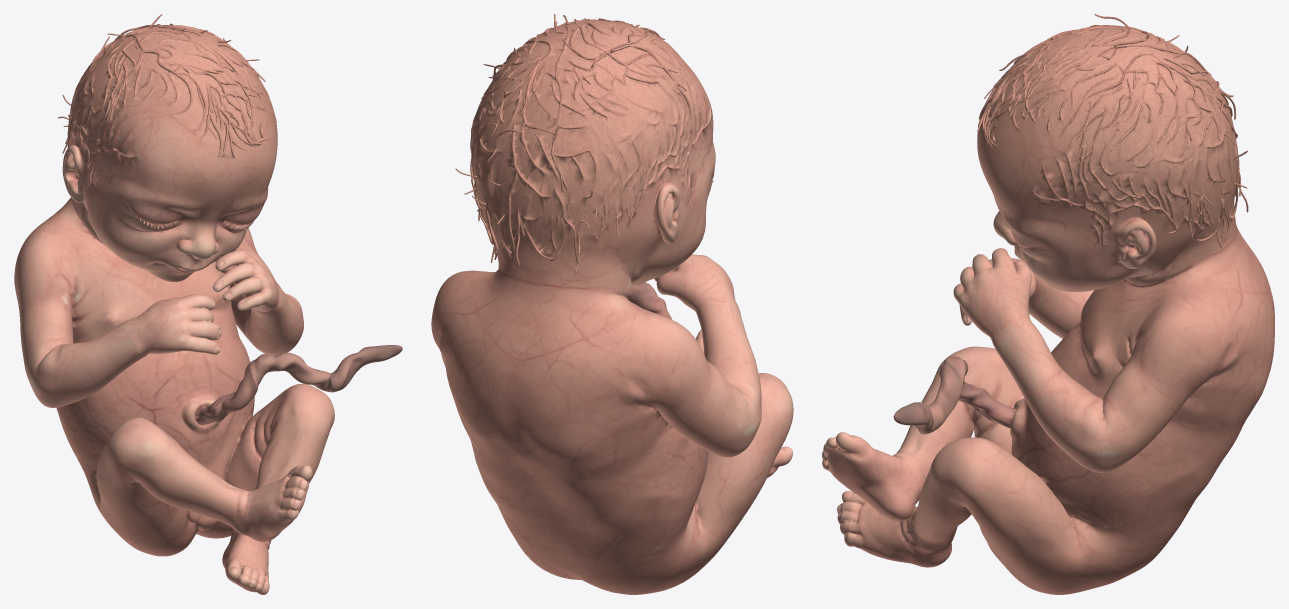
Rendered from semaine-31.glb.
3 renders of one model, left to right at view 1: azimuth 30°, elevation 25°; view 2: azimuth 150°, elevation 25°; view 3: azimuth 270°, elevation 25°, orthographic. The views are drawn at different scales.
Size of the model in its own units: 1.1 by 1.9 by 1.41.
Materials: 1 (1 with a texture image).
